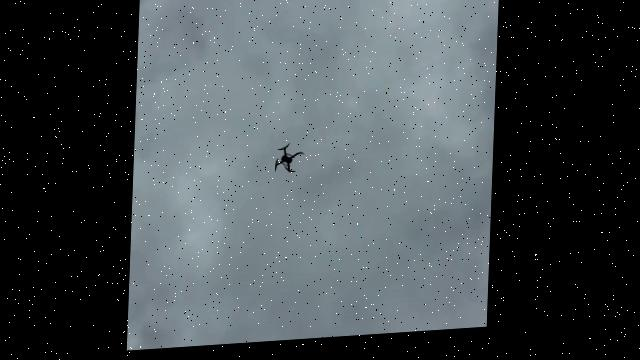drone: (267, 142, 309, 187)
